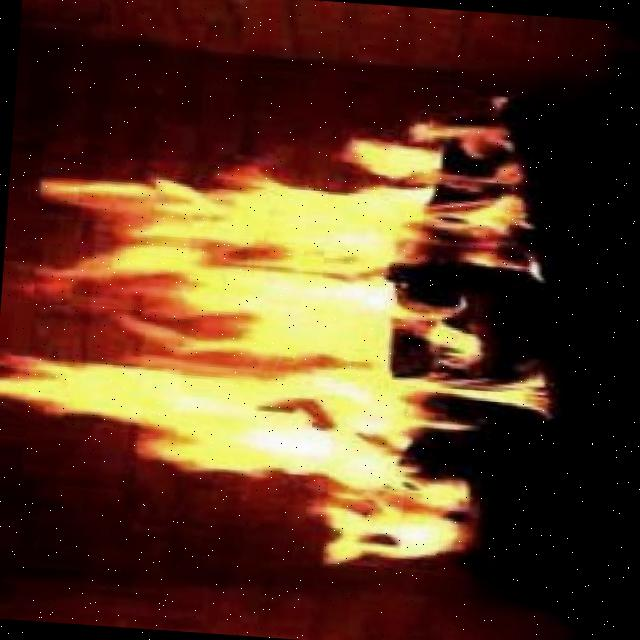fire: (51, 176, 481, 536)
